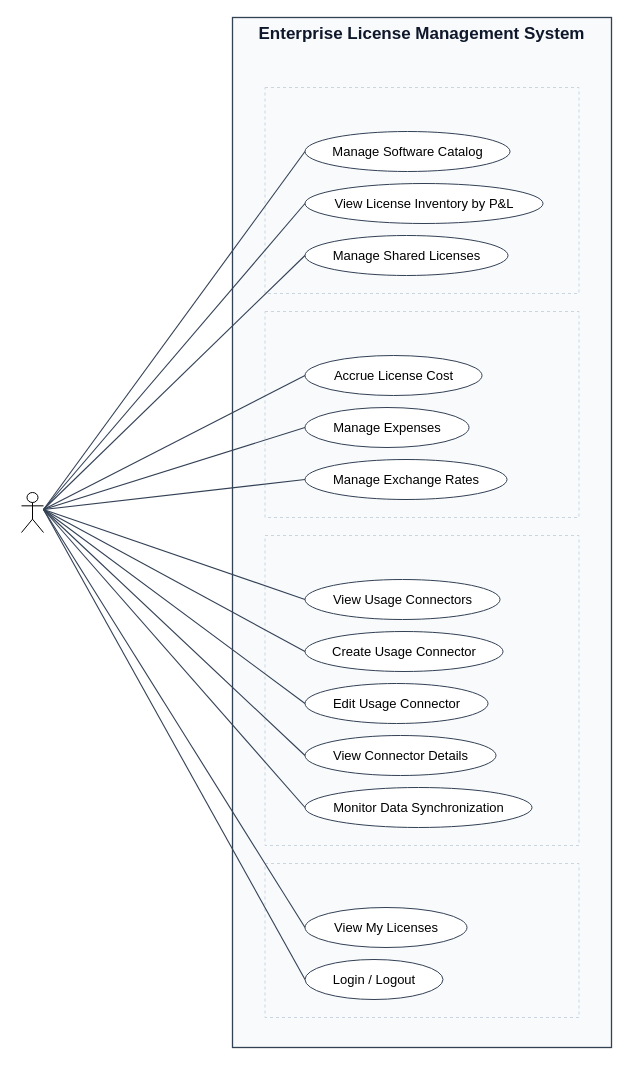
The diagram is 630 pixels wide and 1066 high, and some of its shapes have lost their labels. The box of each missing label's shape, as (x1, y1, x2, y2) in pixels:
Budget Management: (264, 310, 579, 518)
Connection Management: (264, 534, 579, 846)
License Management: (264, 86, 579, 294)
Self-service: (264, 862, 579, 1018)
Staff: (20, 492, 44, 532)
